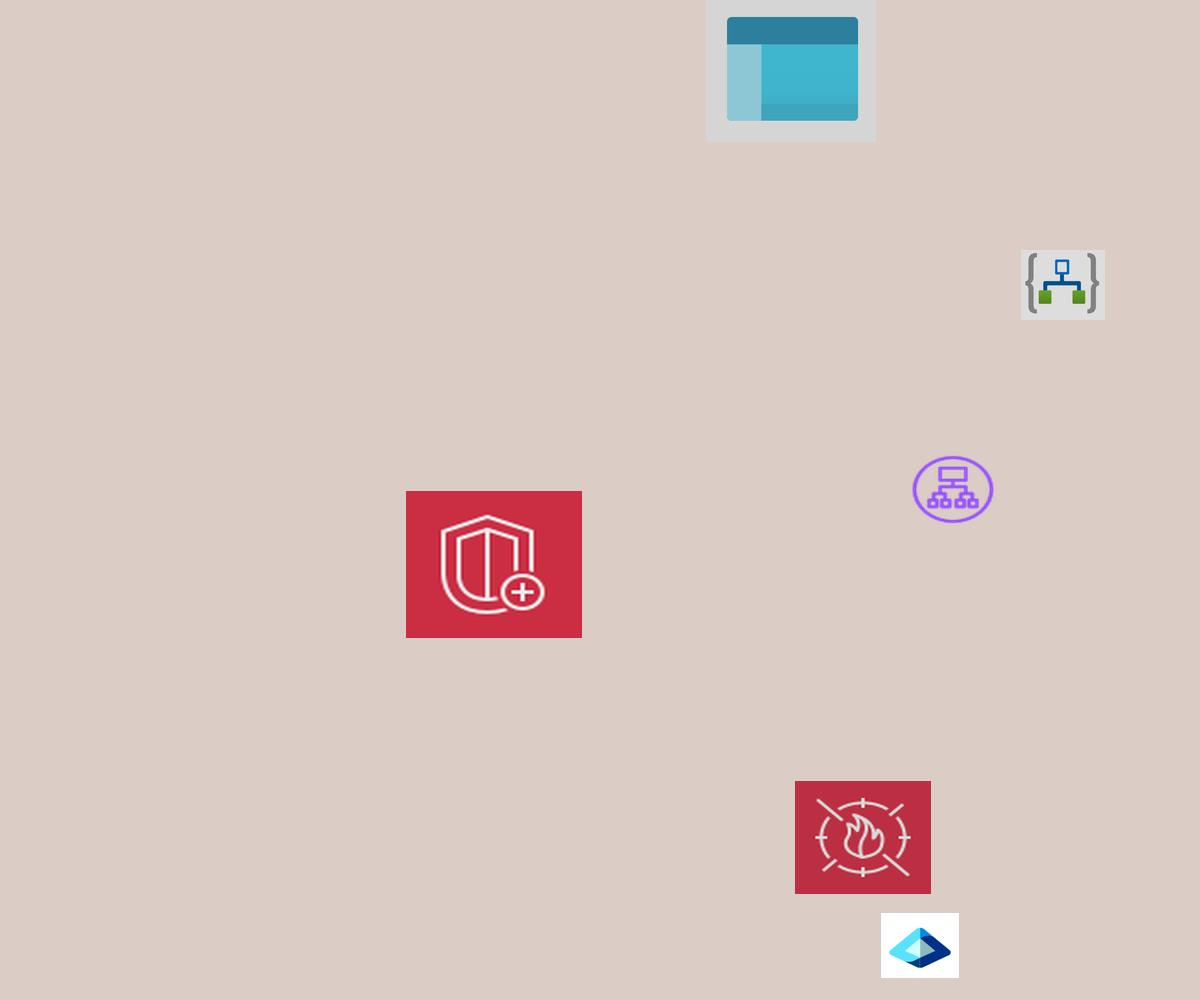AWS-Res_Elastic-Load-Balancing_Application-Load-Balancer: (909, 453, 997, 526)
AWS-Shield: (406, 491, 582, 638)
AWS-WAF: (795, 781, 931, 894)
Azure_integration-204-Logic-Apps: (1021, 250, 1105, 320)
Azure_management-portal: (706, 0, 876, 142)
Azure_microsoft_entra: (881, 913, 959, 978)
